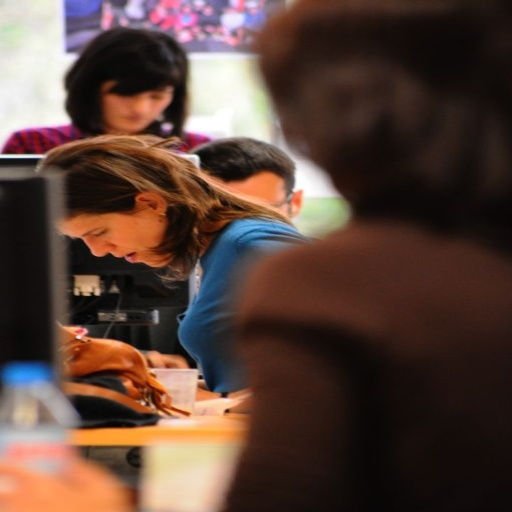hand: (0, 442, 130, 511), (141, 349, 187, 368), (189, 386, 221, 400)
